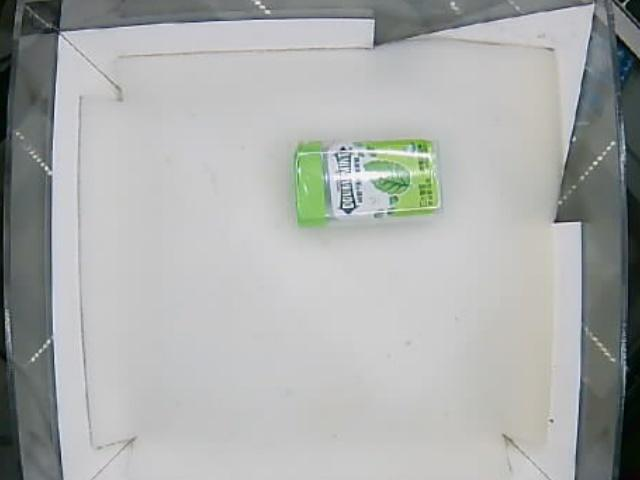Bottle: (292, 135, 443, 228)
